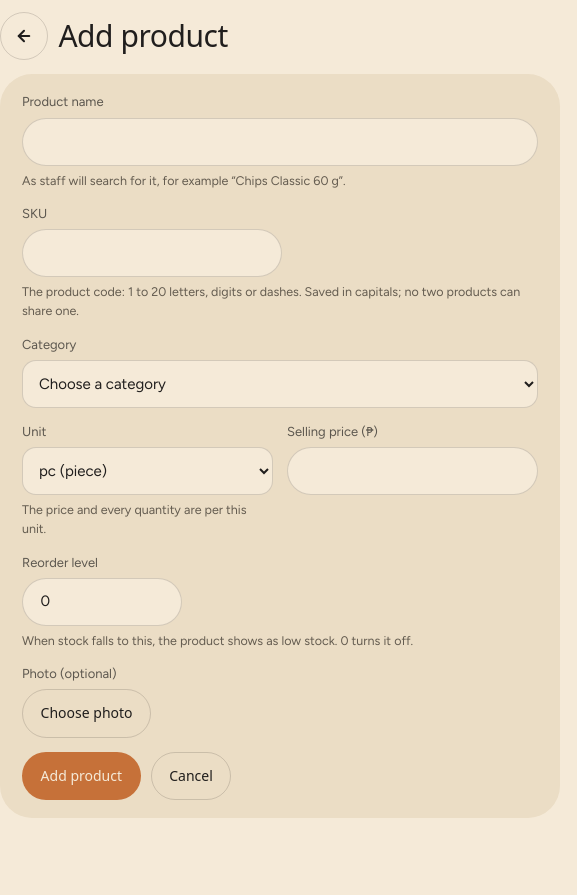
it: Add product (PROD-02, PROD-03) › a SKU already used says so
The width and height of the screenshot is (577, 895).
Type "Copy" into the field labelled "Product name".
click(280, 142); type("Copy")  # box 22,118 -> 538,166
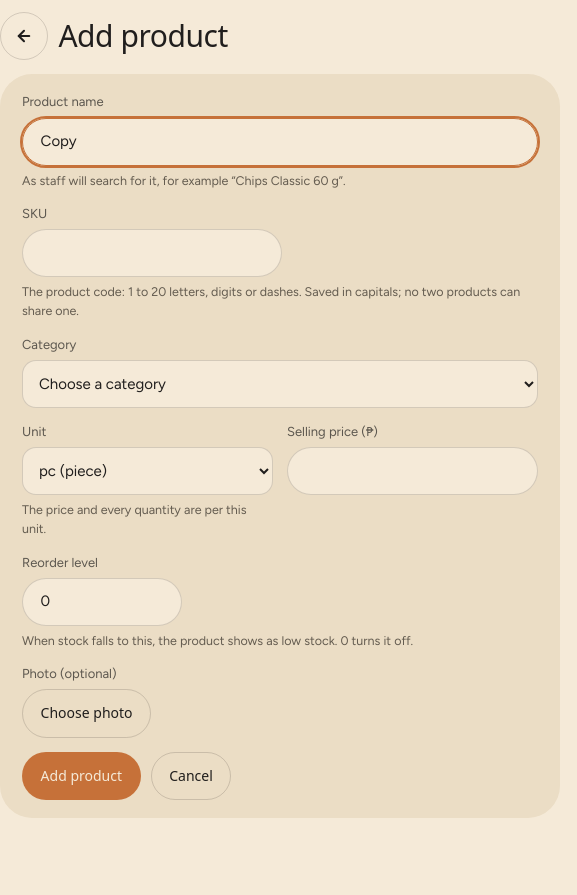
Type "ck-12" into the field labelled "SKU".
click(152, 253); type("ck-12")  # box 22,229 -> 282,277
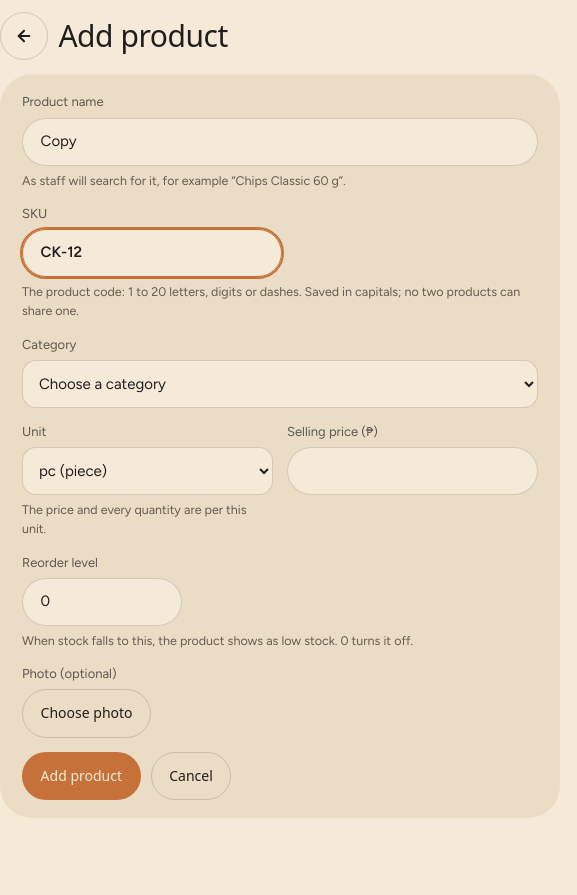
Select "Snacks" in the dropdown labelled "Category" at x=280, y=384, box 22,360 -> 538,408
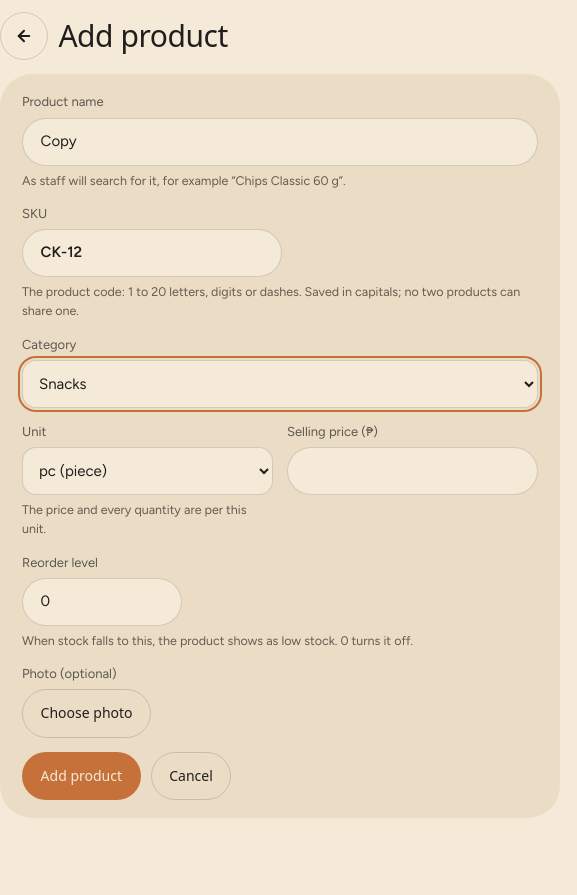
Type "45" into the field labelled "Selling price (₱)".
click(412, 471); type("45")  # box 287,447 -> 538,495
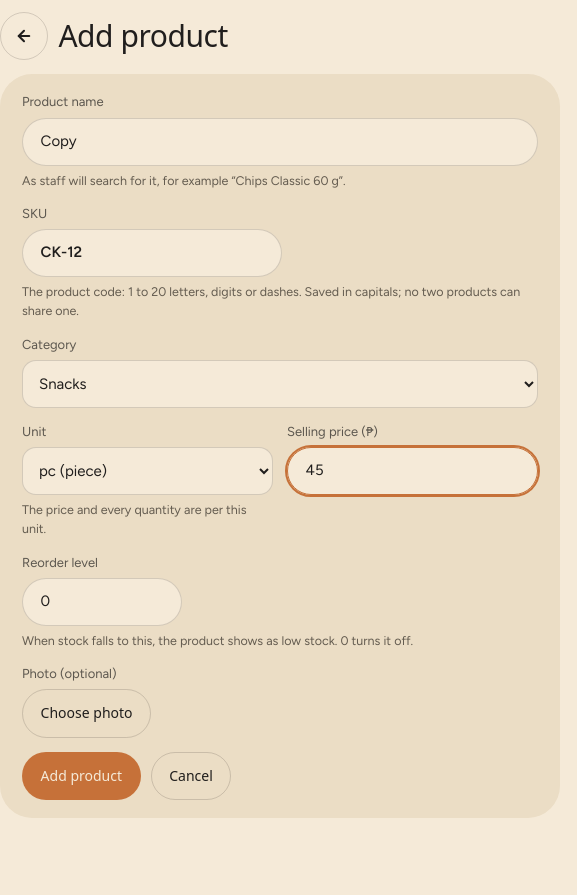
Click the button "Add product".
click(81, 776)  # box 22,752 -> 141,800
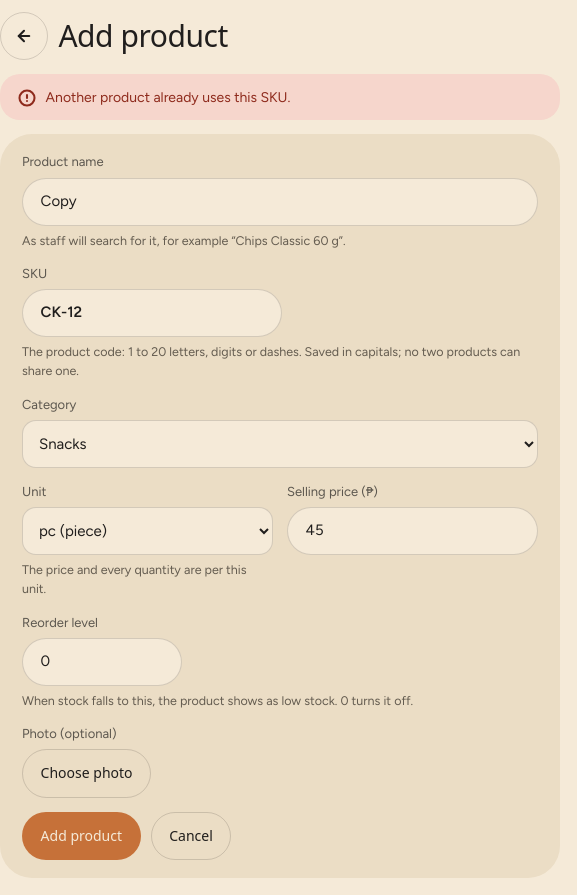
Now the text "Another product already uses this SKU." is shown, box 46,88 -> 290,107
